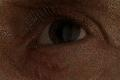eye: (50, 22, 80, 43)
